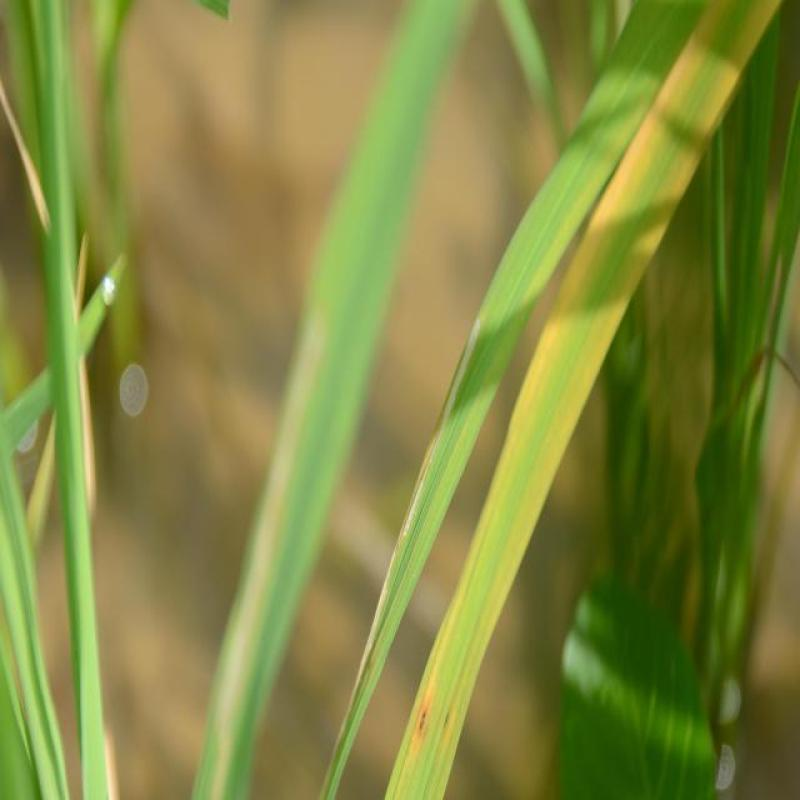Rice Tungro: (355, 10, 780, 800)
